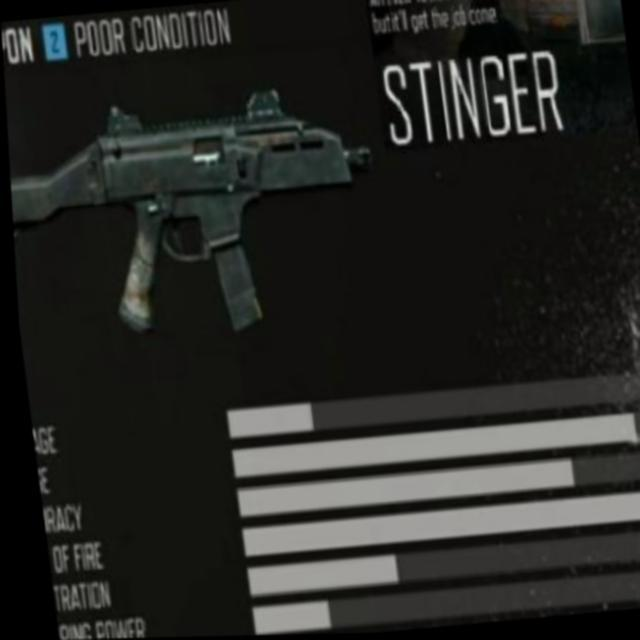weapon: (4, 78, 387, 351)
